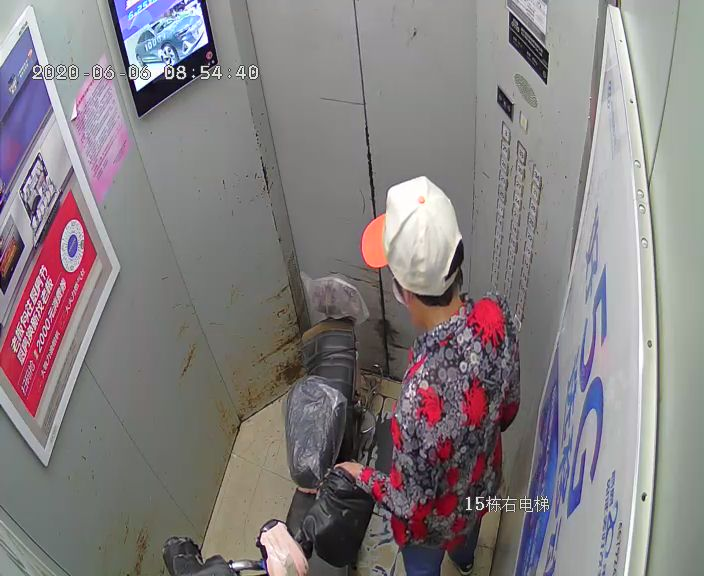Electric-bicycle: (161, 276, 394, 576)
